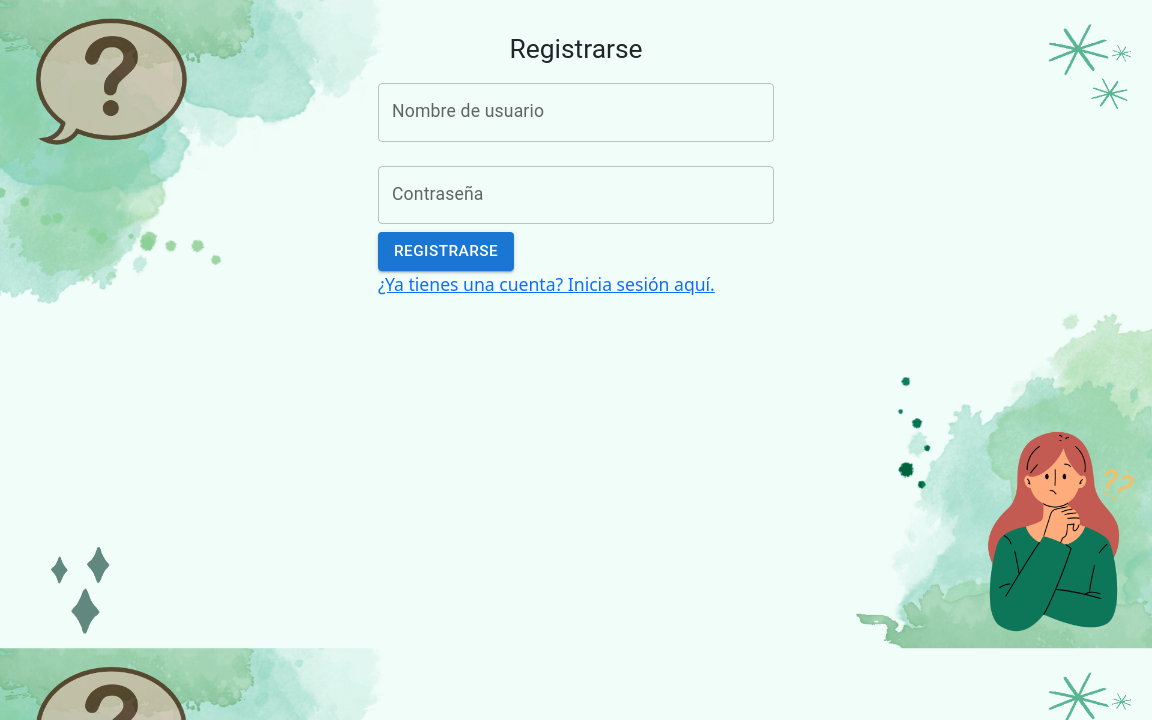
Test: AddUser component › try to add user with username existing
The image size is (1152, 720).
Note: Simulate user input
Type "testUser" into the field labelled "Nombre de usuario" at (576, 112), box [378, 83, 774, 142]
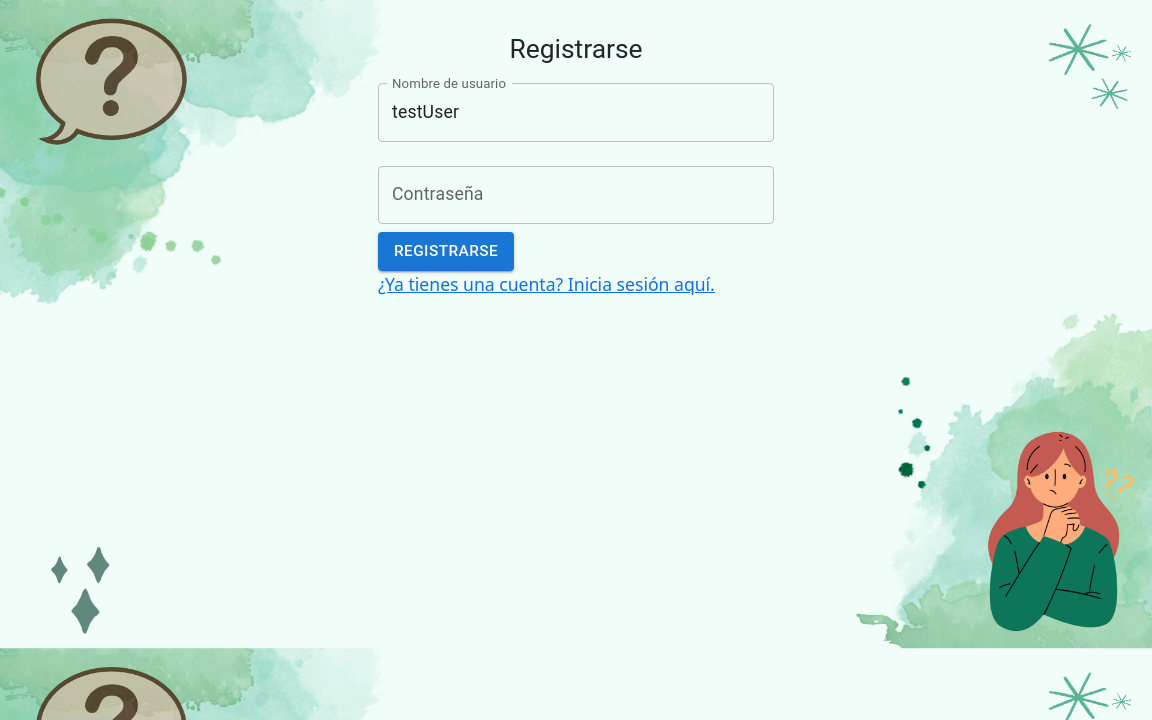
Type "testPass" into the password field labelled "Contraseña" at (576, 195), box [378, 166, 774, 224]
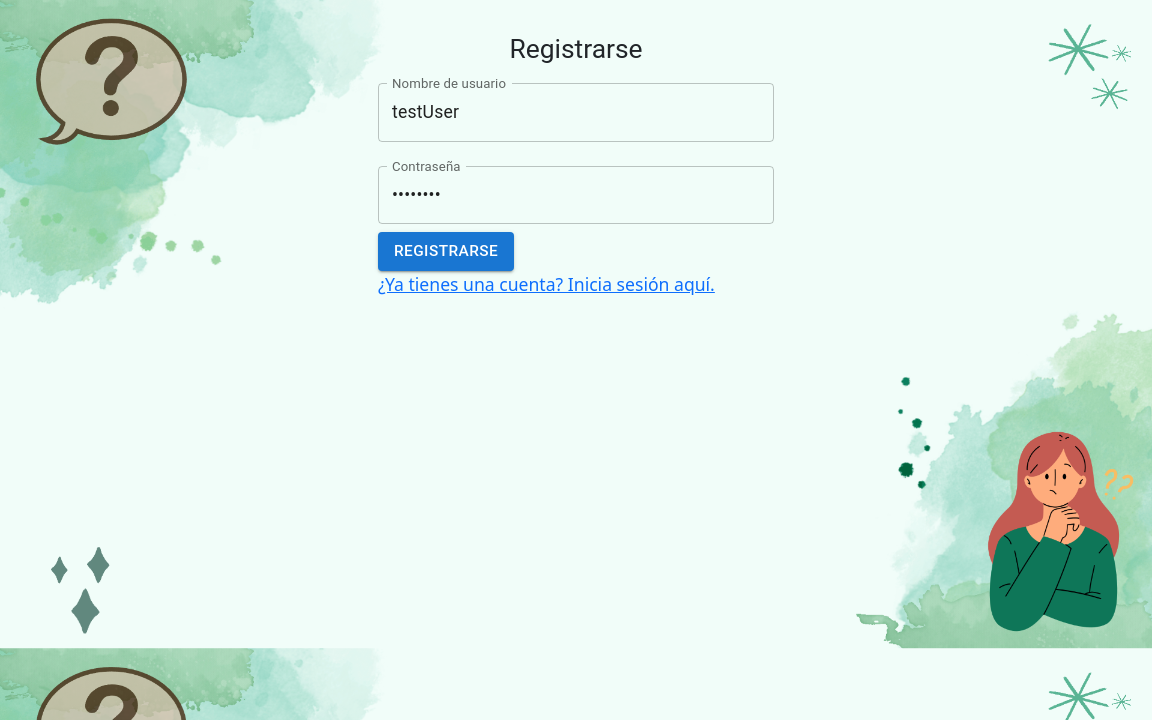
Note: Trigger the add user button click
Click the button "Registrarse" at (446, 251), box [378, 232, 514, 271]
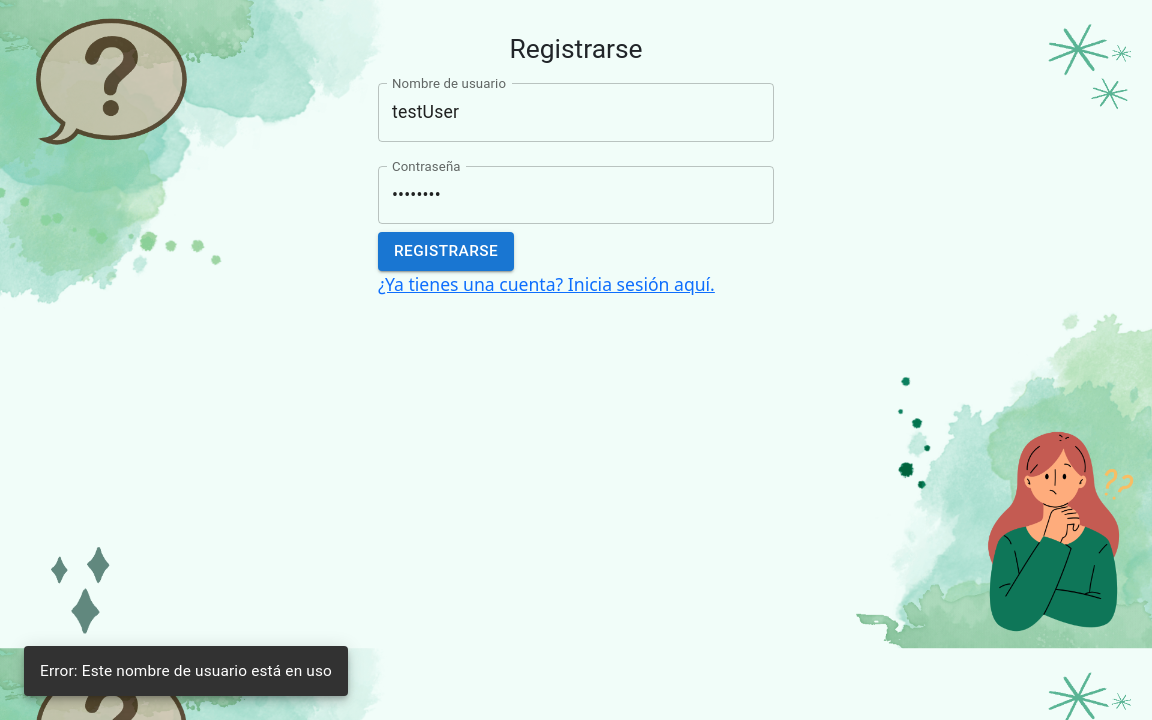
Expected: the text "Error: Este nombre de usuario está en uso" is shown, [40, 662, 332, 680]
